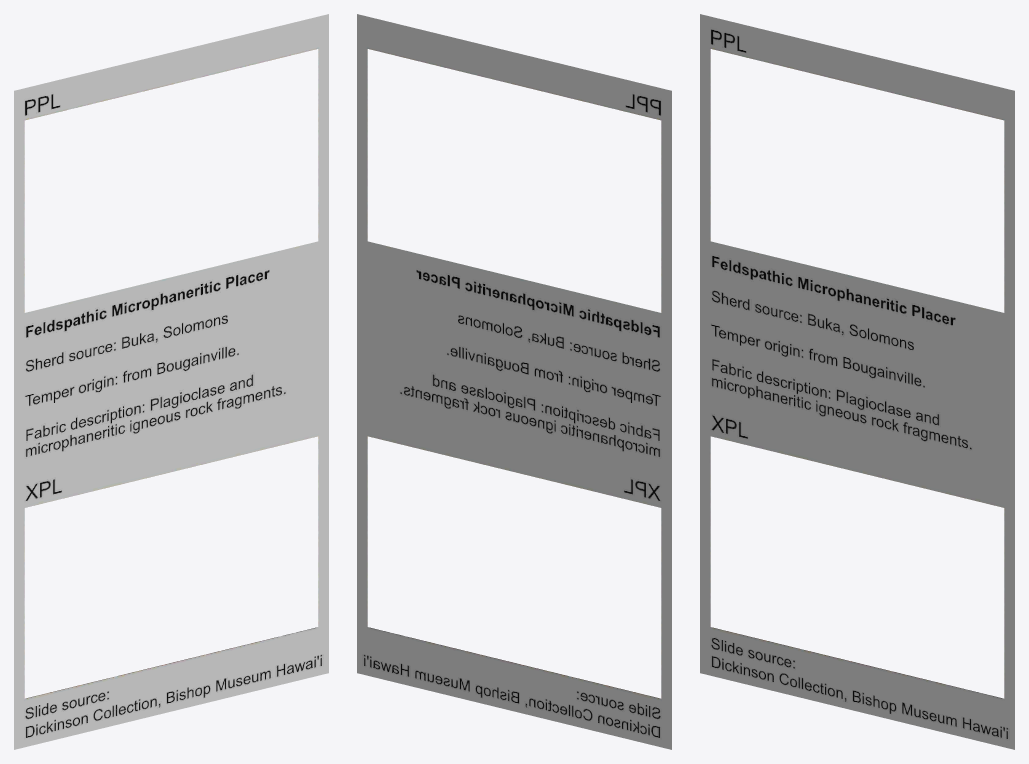
The model's file is wd_101_3_frame.glb.
The picture shows the model from 3 angles, left to right: view 1: azimuth 30°, elevation 25°; view 2: azimuth 150°, elevation 25°; view 3: azimuth 330°, elevation 25°; orthographic projection.
Visible parts, largest first — view 1: WD_101_3a; view 2: WD_101_3a; view 3: WD_101_3a.
Part boxes in pixels (bbox=[...]): WD_101_3a: bbox=[14, 14, 328, 749]; WD_101_3a: bbox=[357, 14, 671, 749]; WD_101_3a: bbox=[700, 14, 1014, 749].
Size of the model in its own units: 0.5 by 1 by 4.37e-08.
Materials: 1 (1 with a texture image).
